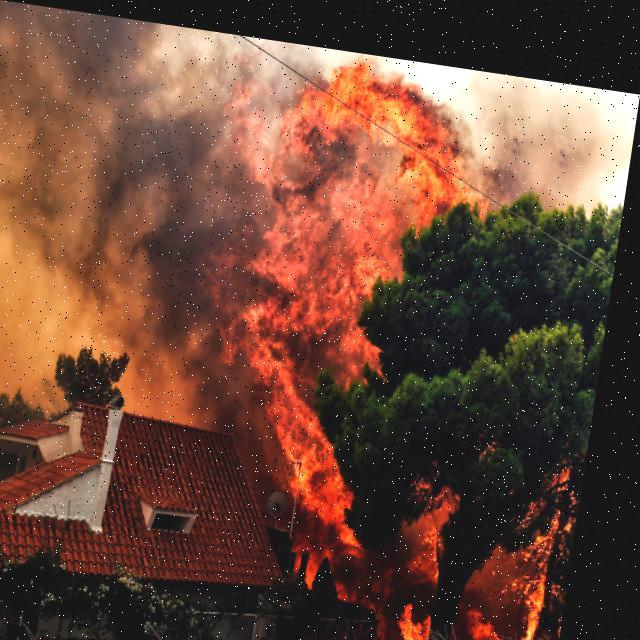Fire: (206, 40, 627, 639)
